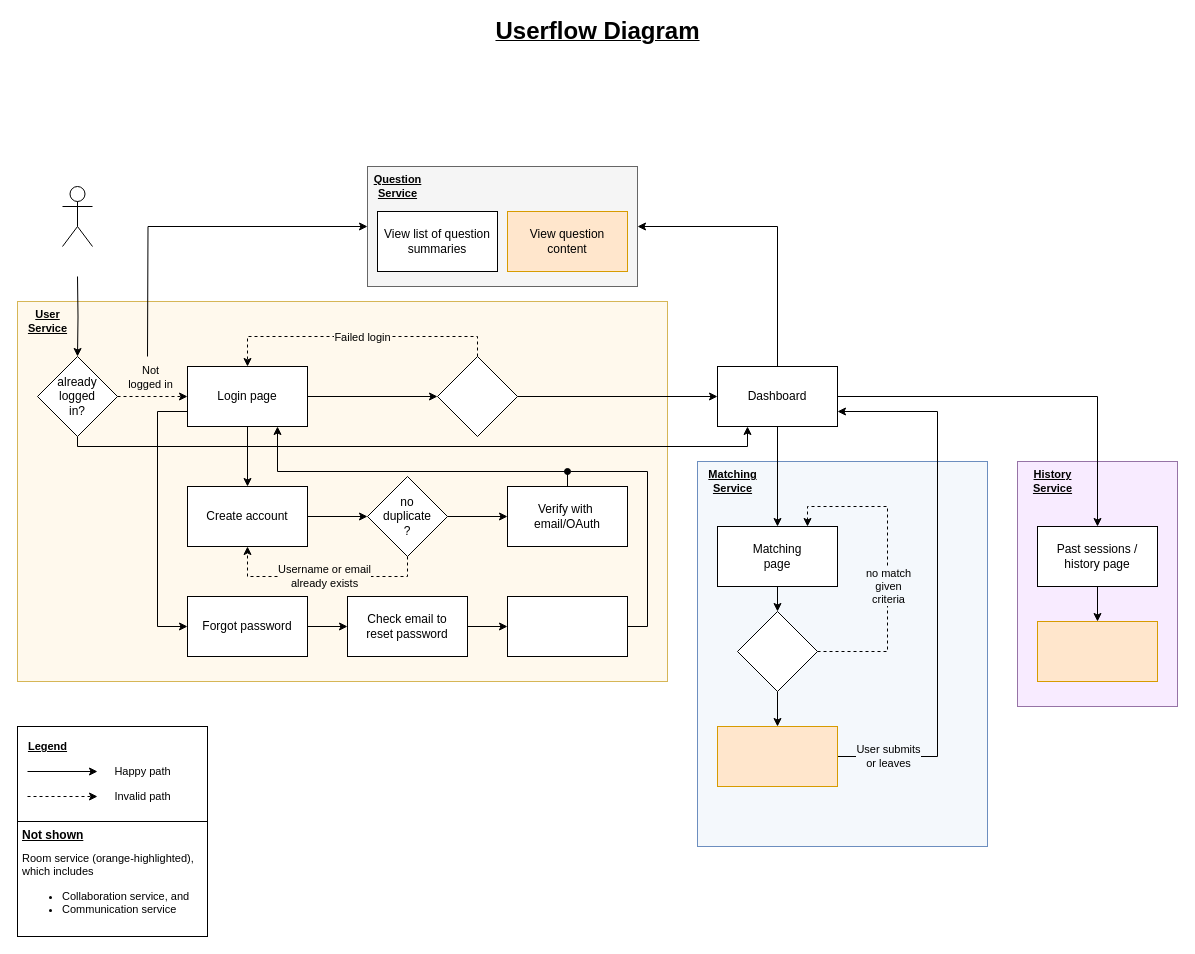
The diagram is 1195 pixels wide and 954 high, and some of its shapes have lost their labels. Here are the shapes that lost their labels. From the top down, the centre of each, then its label:
At (77,216): "User".
At (477,396): "valid credential ?".
At (567,626): "Reset password page".
At (777,651): "match found?".
At (1097,651): "Locked room page with previous session's data".
At (777,756): "Room page with peer".
